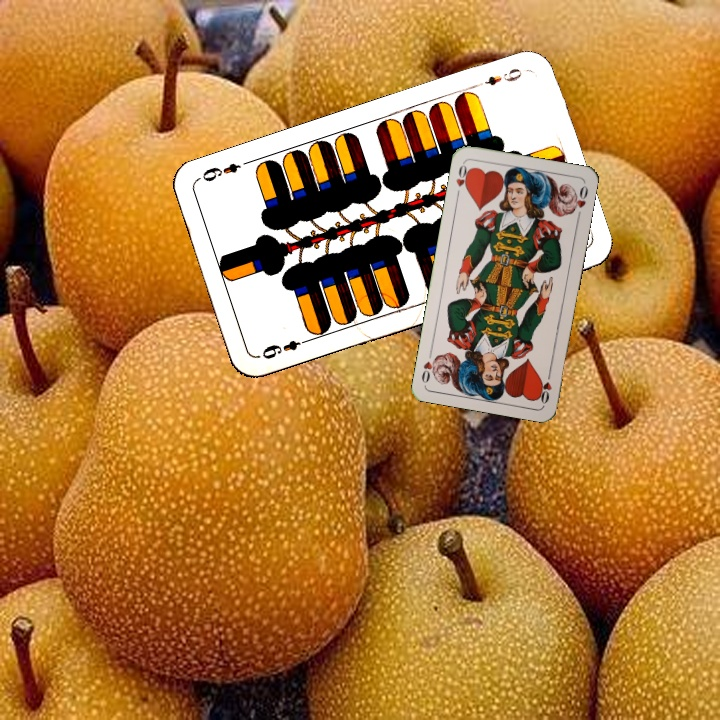E9: (258, 334, 313, 362), (480, 64, 525, 89)
HO: (452, 159, 473, 200), (535, 366, 554, 406)
